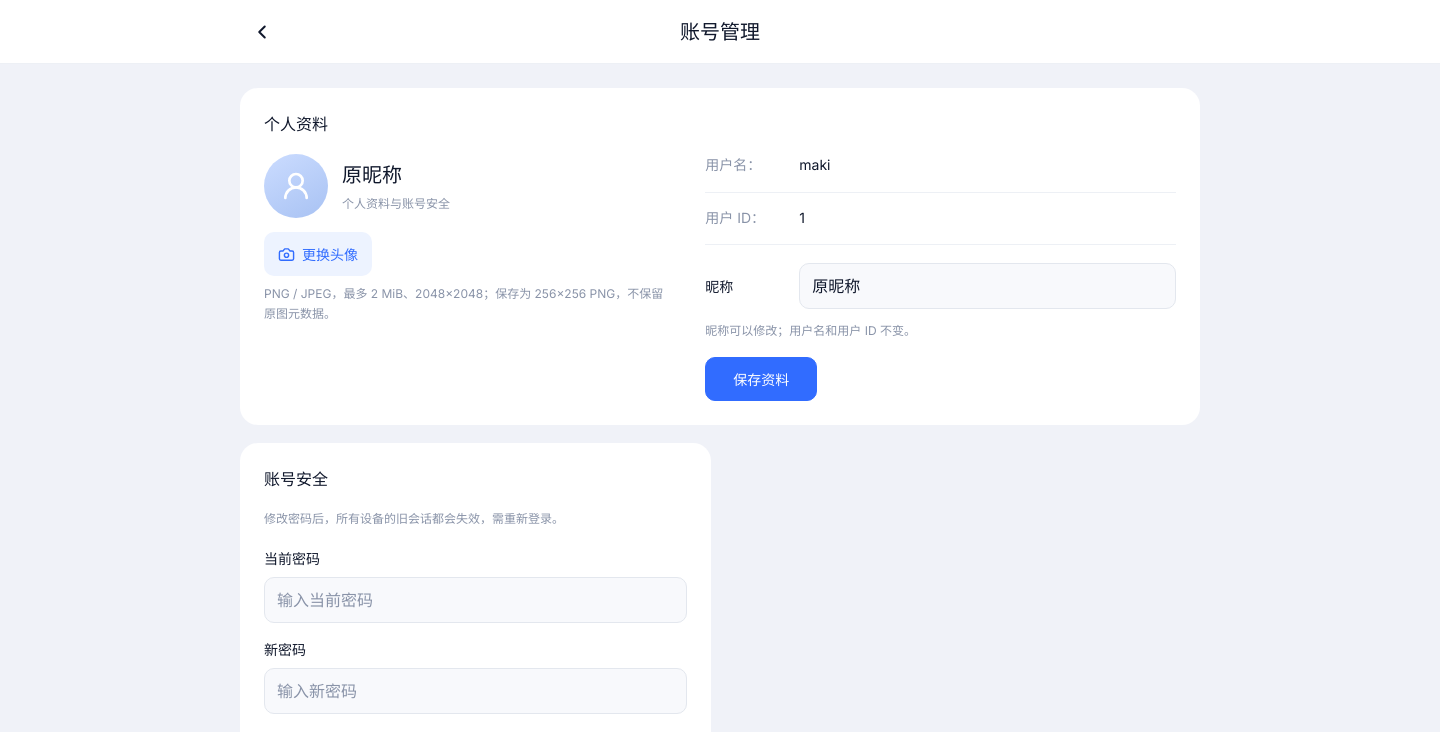
Test: 账号管理 › loads identity, saves trimmed nickname and updates session display
Step 1. Replace the text in the field with id "nickname" with " 新昵称 " → x=988, y=286, box [799,263,1176,309]
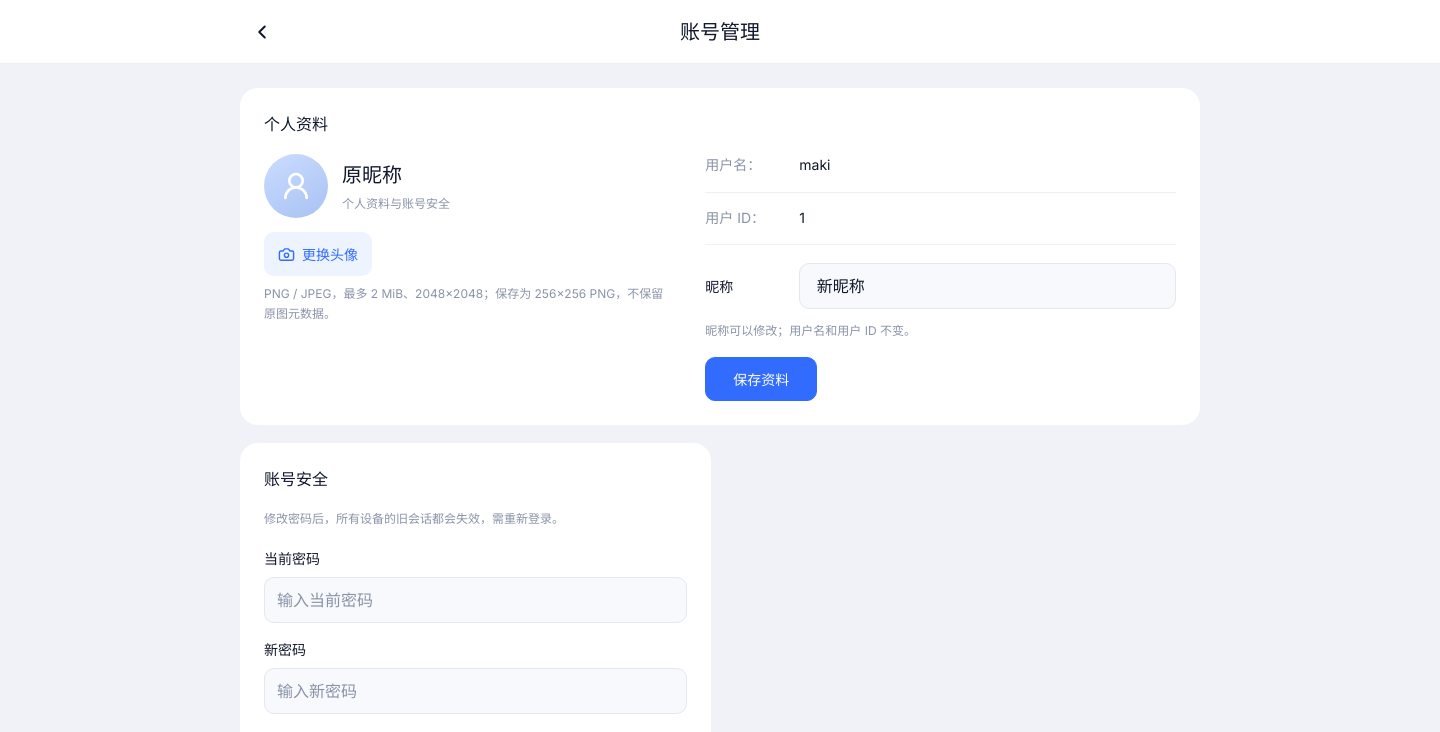
Step 2. Submit the form with id "nickname", box [705,244,1176,401]
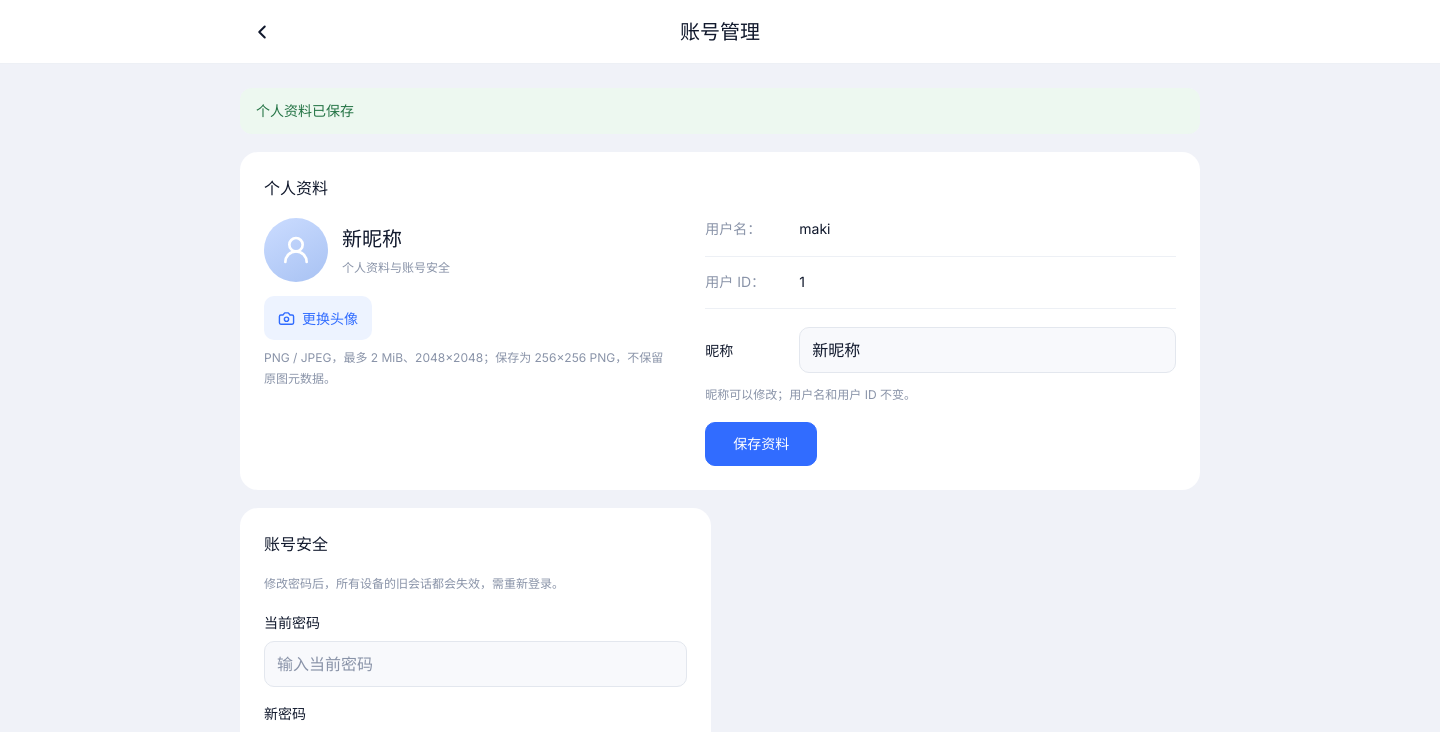
Result: the text "个人资料已保存" is shown at [240,88,1200,134]
